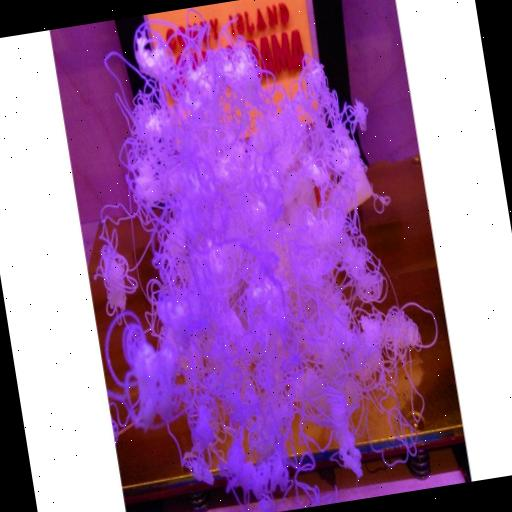spaghetti: (58, 0, 464, 512)
